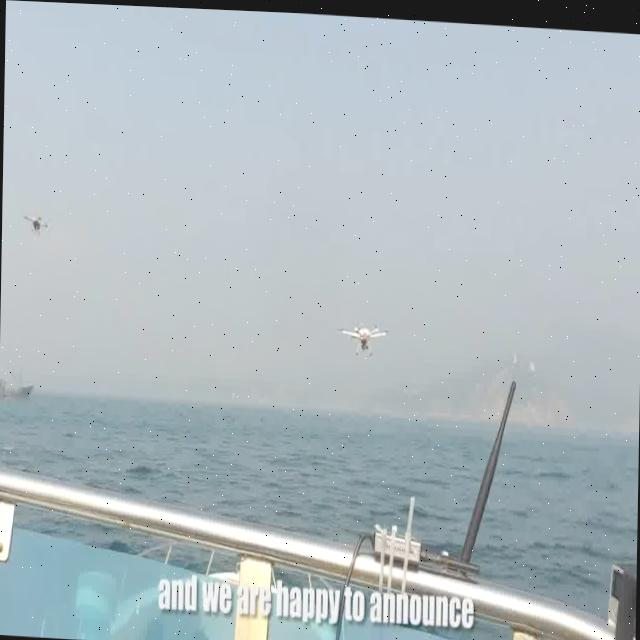drone: (334, 310, 389, 358), (19, 206, 52, 238)
